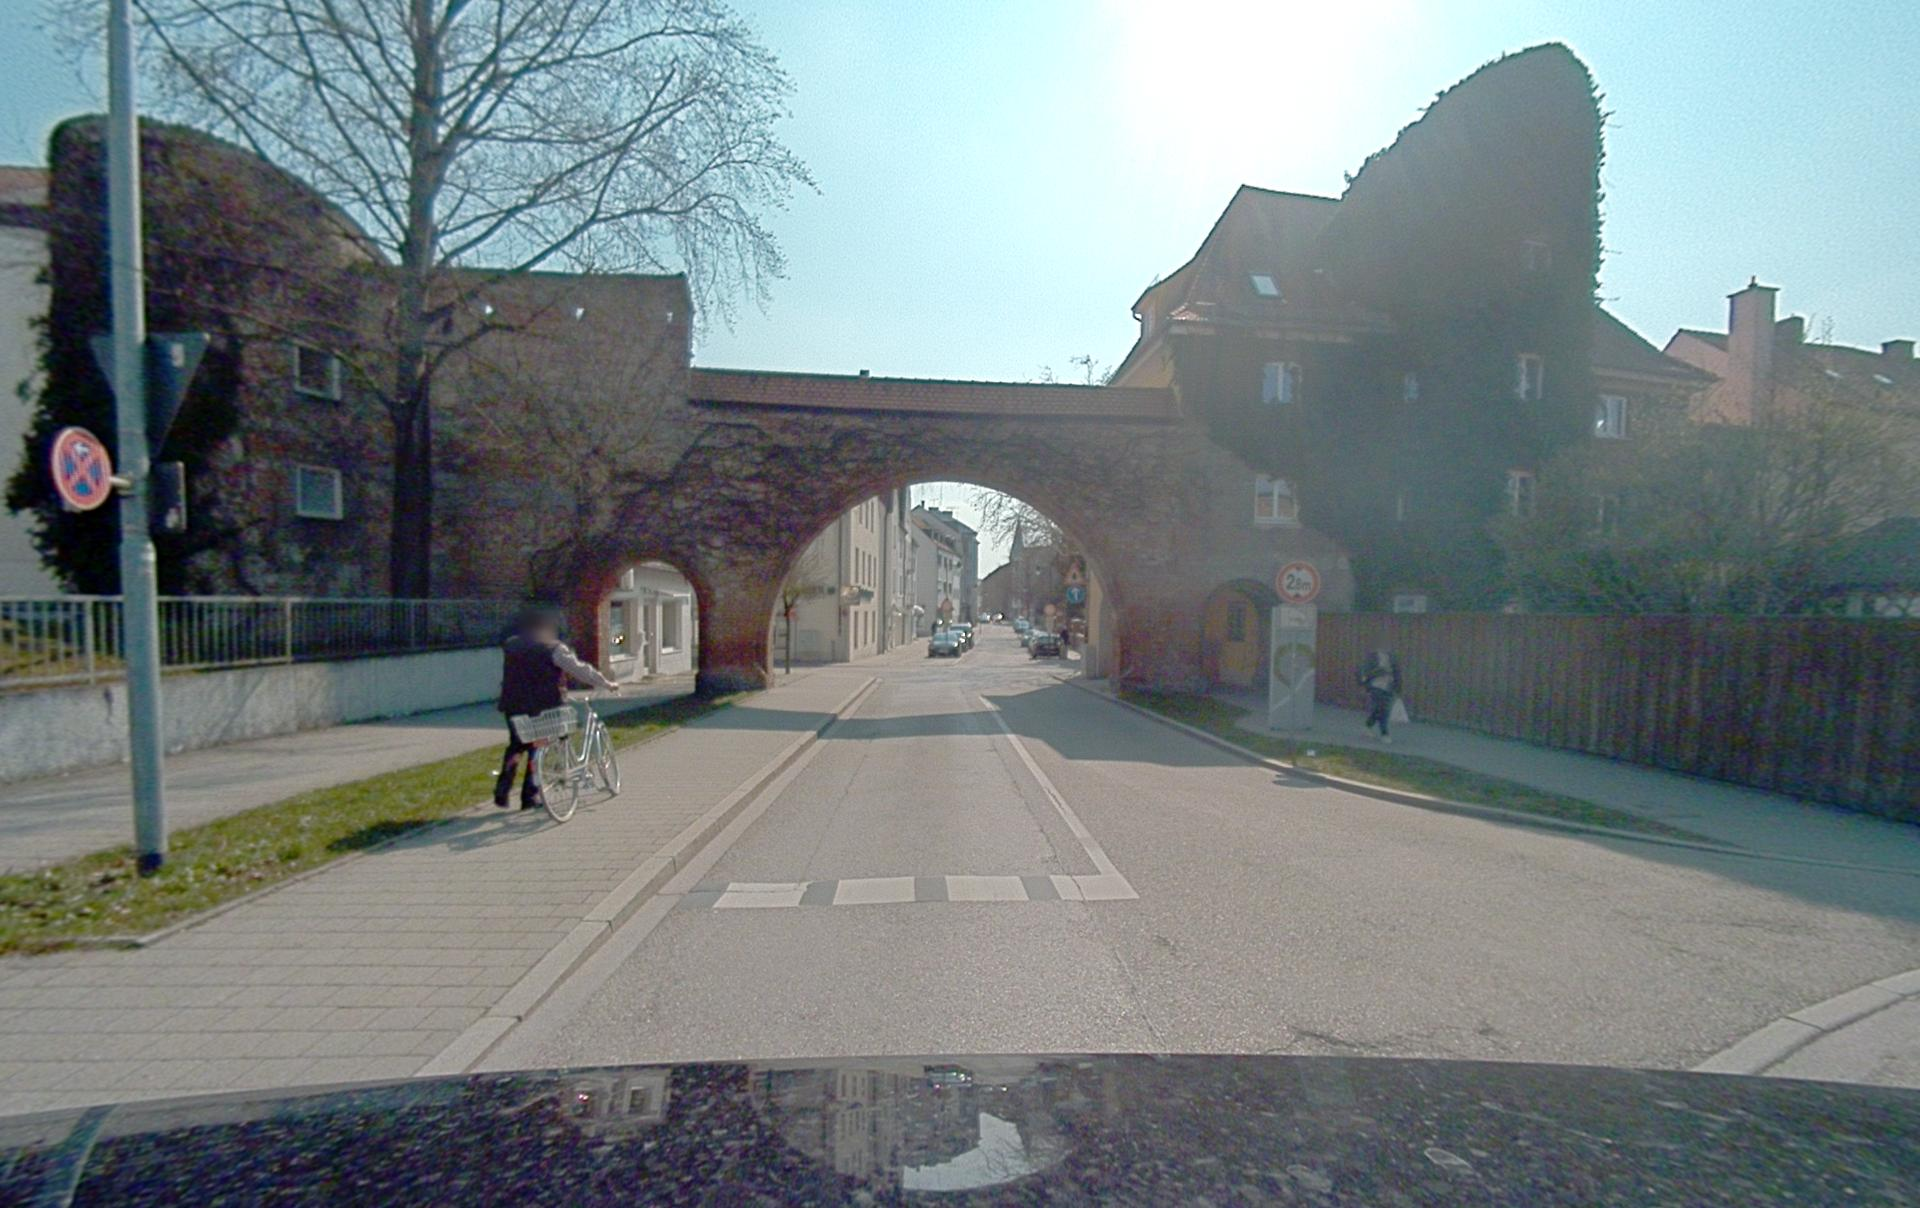car: (1030, 630, 1062, 658), (927, 630, 961, 655), (950, 623, 974, 649)
